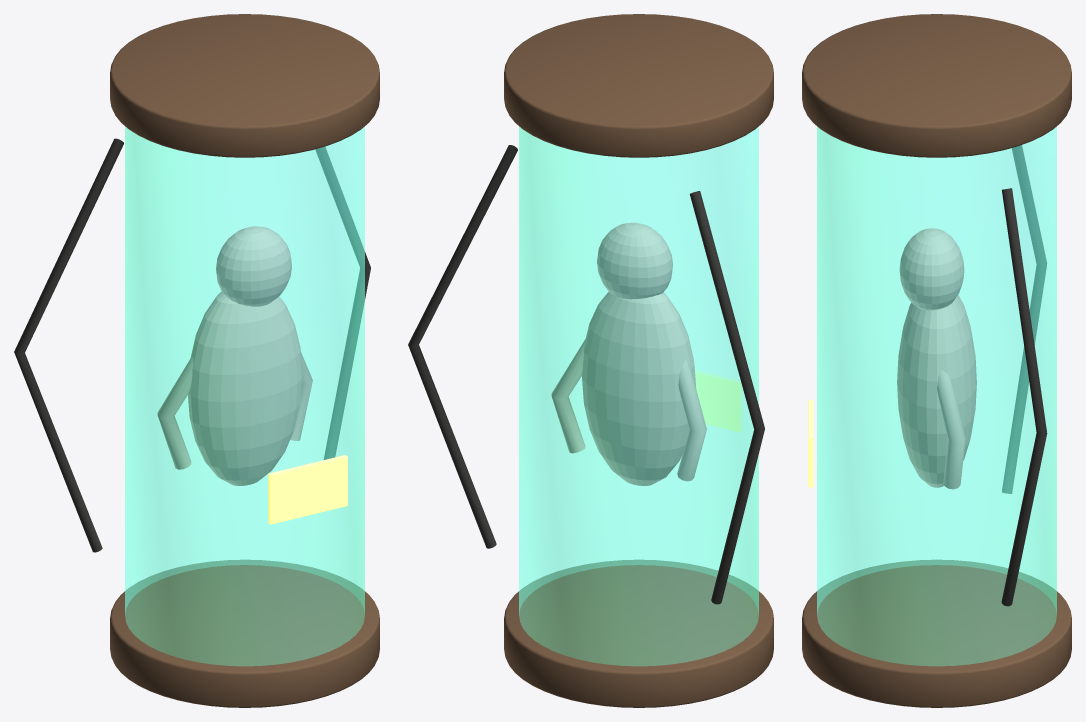
The model's file is dz_lab_tank_specimen_premium.glb.
The picture shows the model from 3 angles, left to right: view 1: azimuth 30°, elevation 25°; view 2: azimuth 150°, elevation 25°; view 3: azimuth 270°, elevation 25°; orthographic projection.
Parts seen in each view (by area): view 1: biohazard_tank_glass, tank_bottom_rust_ring, tank_top_rust_ring, floating_specimen_torso, tank_external_cable_-1, floating_specimen_head, tank_warning_label, tank_external_cable_1, specimen_arm_-1, specimen_arm_1; view 2: biohazard_tank_glass, tank_bottom_rust_ring, tank_top_rust_ring, floating_specimen_torso, tank_external_cable_-1, tank_external_cable_1, floating_specimen_head, tank_warning_label, specimen_arm_-1, specimen_arm_1; view 3: biohazard_tank_glass, tank_bottom_rust_ring, tank_top_rust_ring, floating_specimen_torso, tank_external_cable_1, floating_specimen_head, tank_external_cable_-1, specimen_arm_1, tank_warning_label.
Boxes of the visible parts, <box> form: biohazard_tank_glass: <box>125,126,364,665</box>; tank_bottom_rust_ring: <box>110,560,379,707</box>; tank_top_rust_ring: <box>110,14,379,157</box>; floating_specimen_torso: <box>188,291,302,485</box>; tank_external_cable_-1: <box>14,138,123,552</box>; floating_specimen_head: <box>216,226,291,306</box>; tank_warning_label: <box>268,455,347,524</box>; tank_external_cable_1: <box>315,147,370,459</box>; specimen_arm_-1: <box>157,356,193,469</box>; specimen_arm_1: <box>290,352,312,440</box>; biohazard_tank_glass: <box>519,126,758,665</box>; tank_bottom_rust_ring: <box>504,560,773,707</box>; tank_top_rust_ring: <box>504,14,773,157</box>; floating_specimen_torso: <box>581,292,695,485</box>; tank_external_cable_-1: <box>689,191,764,604</box>; tank_external_cable_1: <box>408,145,517,548</box>; floating_specimen_head: <box>597,222,672,299</box>; tank_warning_label: <box>695,370,741,431</box>; specimen_arm_-1: <box>677,360,706,481</box>; specimen_arm_1: <box>551,339,585,453</box>; biohazard_tank_glass: <box>817,126,1056,665</box>; tank_bottom_rust_ring: <box>802,560,1071,707</box>; tank_top_rust_ring: <box>802,14,1071,157</box>; floating_specimen_torso: <box>897,295,976,487</box>; tank_external_cable_1: <box>1001,188,1047,606</box>; floating_specimen_head: <box>899,228,964,310</box>; tank_external_cable_-1: <box>1002,145,1046,493</box>; specimen_arm_1: <box>937,370,965,489</box>; tank_warning_label: <box>808,400,813,487</box>.
Bounding box in the file's own units: 1.64 × 2.57 × 1.08.
